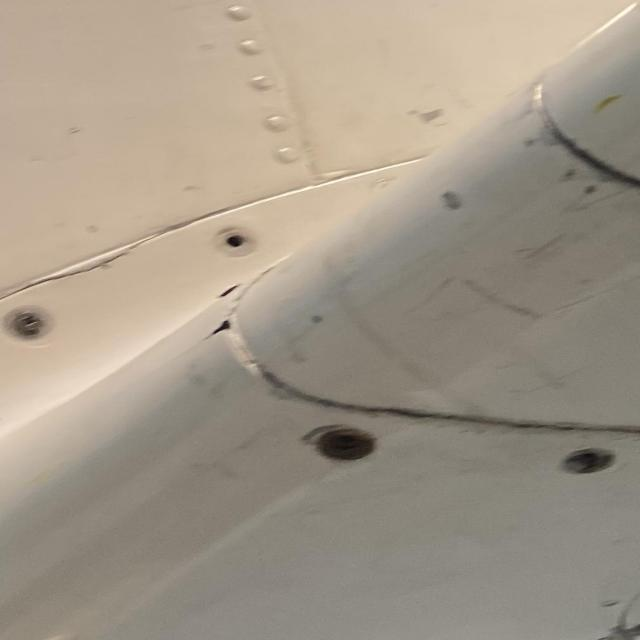Crack: (5, 233, 165, 297), (209, 320, 231, 335)
Missing-head: (309, 427, 379, 464), (557, 448, 613, 475), (214, 228, 252, 255)
Paint-off: (436, 190, 460, 210), (309, 314, 324, 324)
